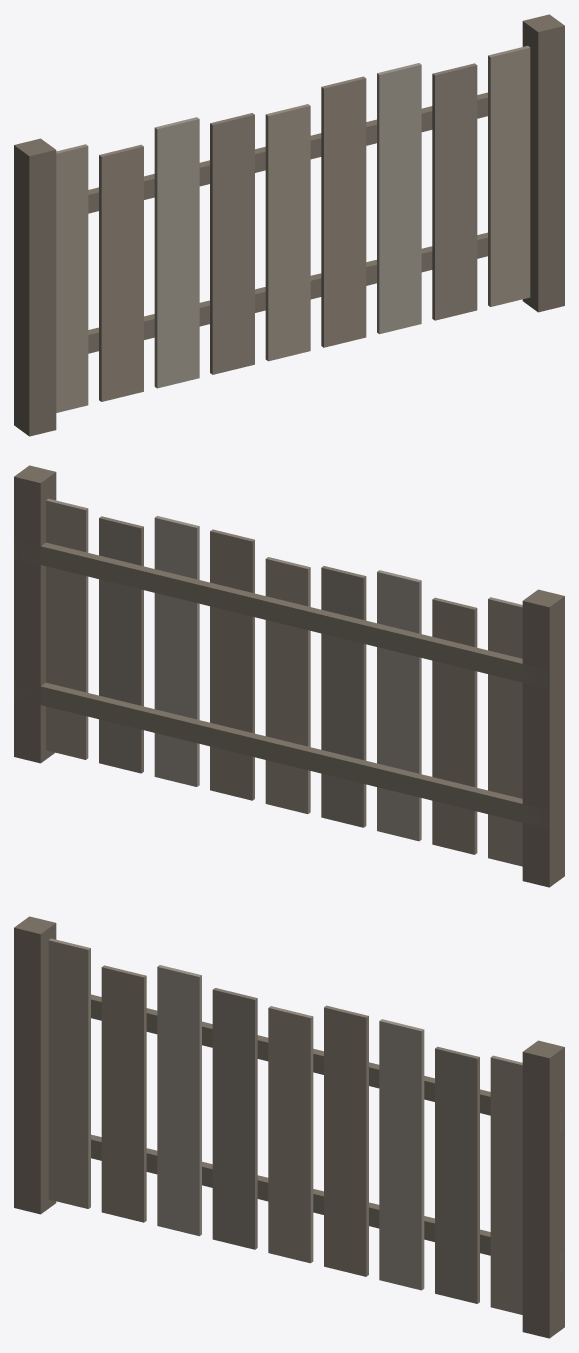
The model's file is yard-fence.lod0.glb.
The picture shows the model from 3 angles, top to bottom: view 1: azimuth 30°, elevation 25°; view 2: azimuth 150°, elevation 25°; view 3: azimuth 330°, elevation 25°; orthographic projection.
Visible parts, largest first — view 1: yard-fence; view 2: yard-fence; view 3: yard-fence.
Boxes of the visible parts, box(x1,y1,x2,y2) form: yard-fence: box(14, 14, 564, 436); yard-fence: box(14, 465, 564, 887); yard-fence: box(14, 916, 564, 1338).
Size of the model in its own units: 2.4 by 1.2 by 0.1201.
